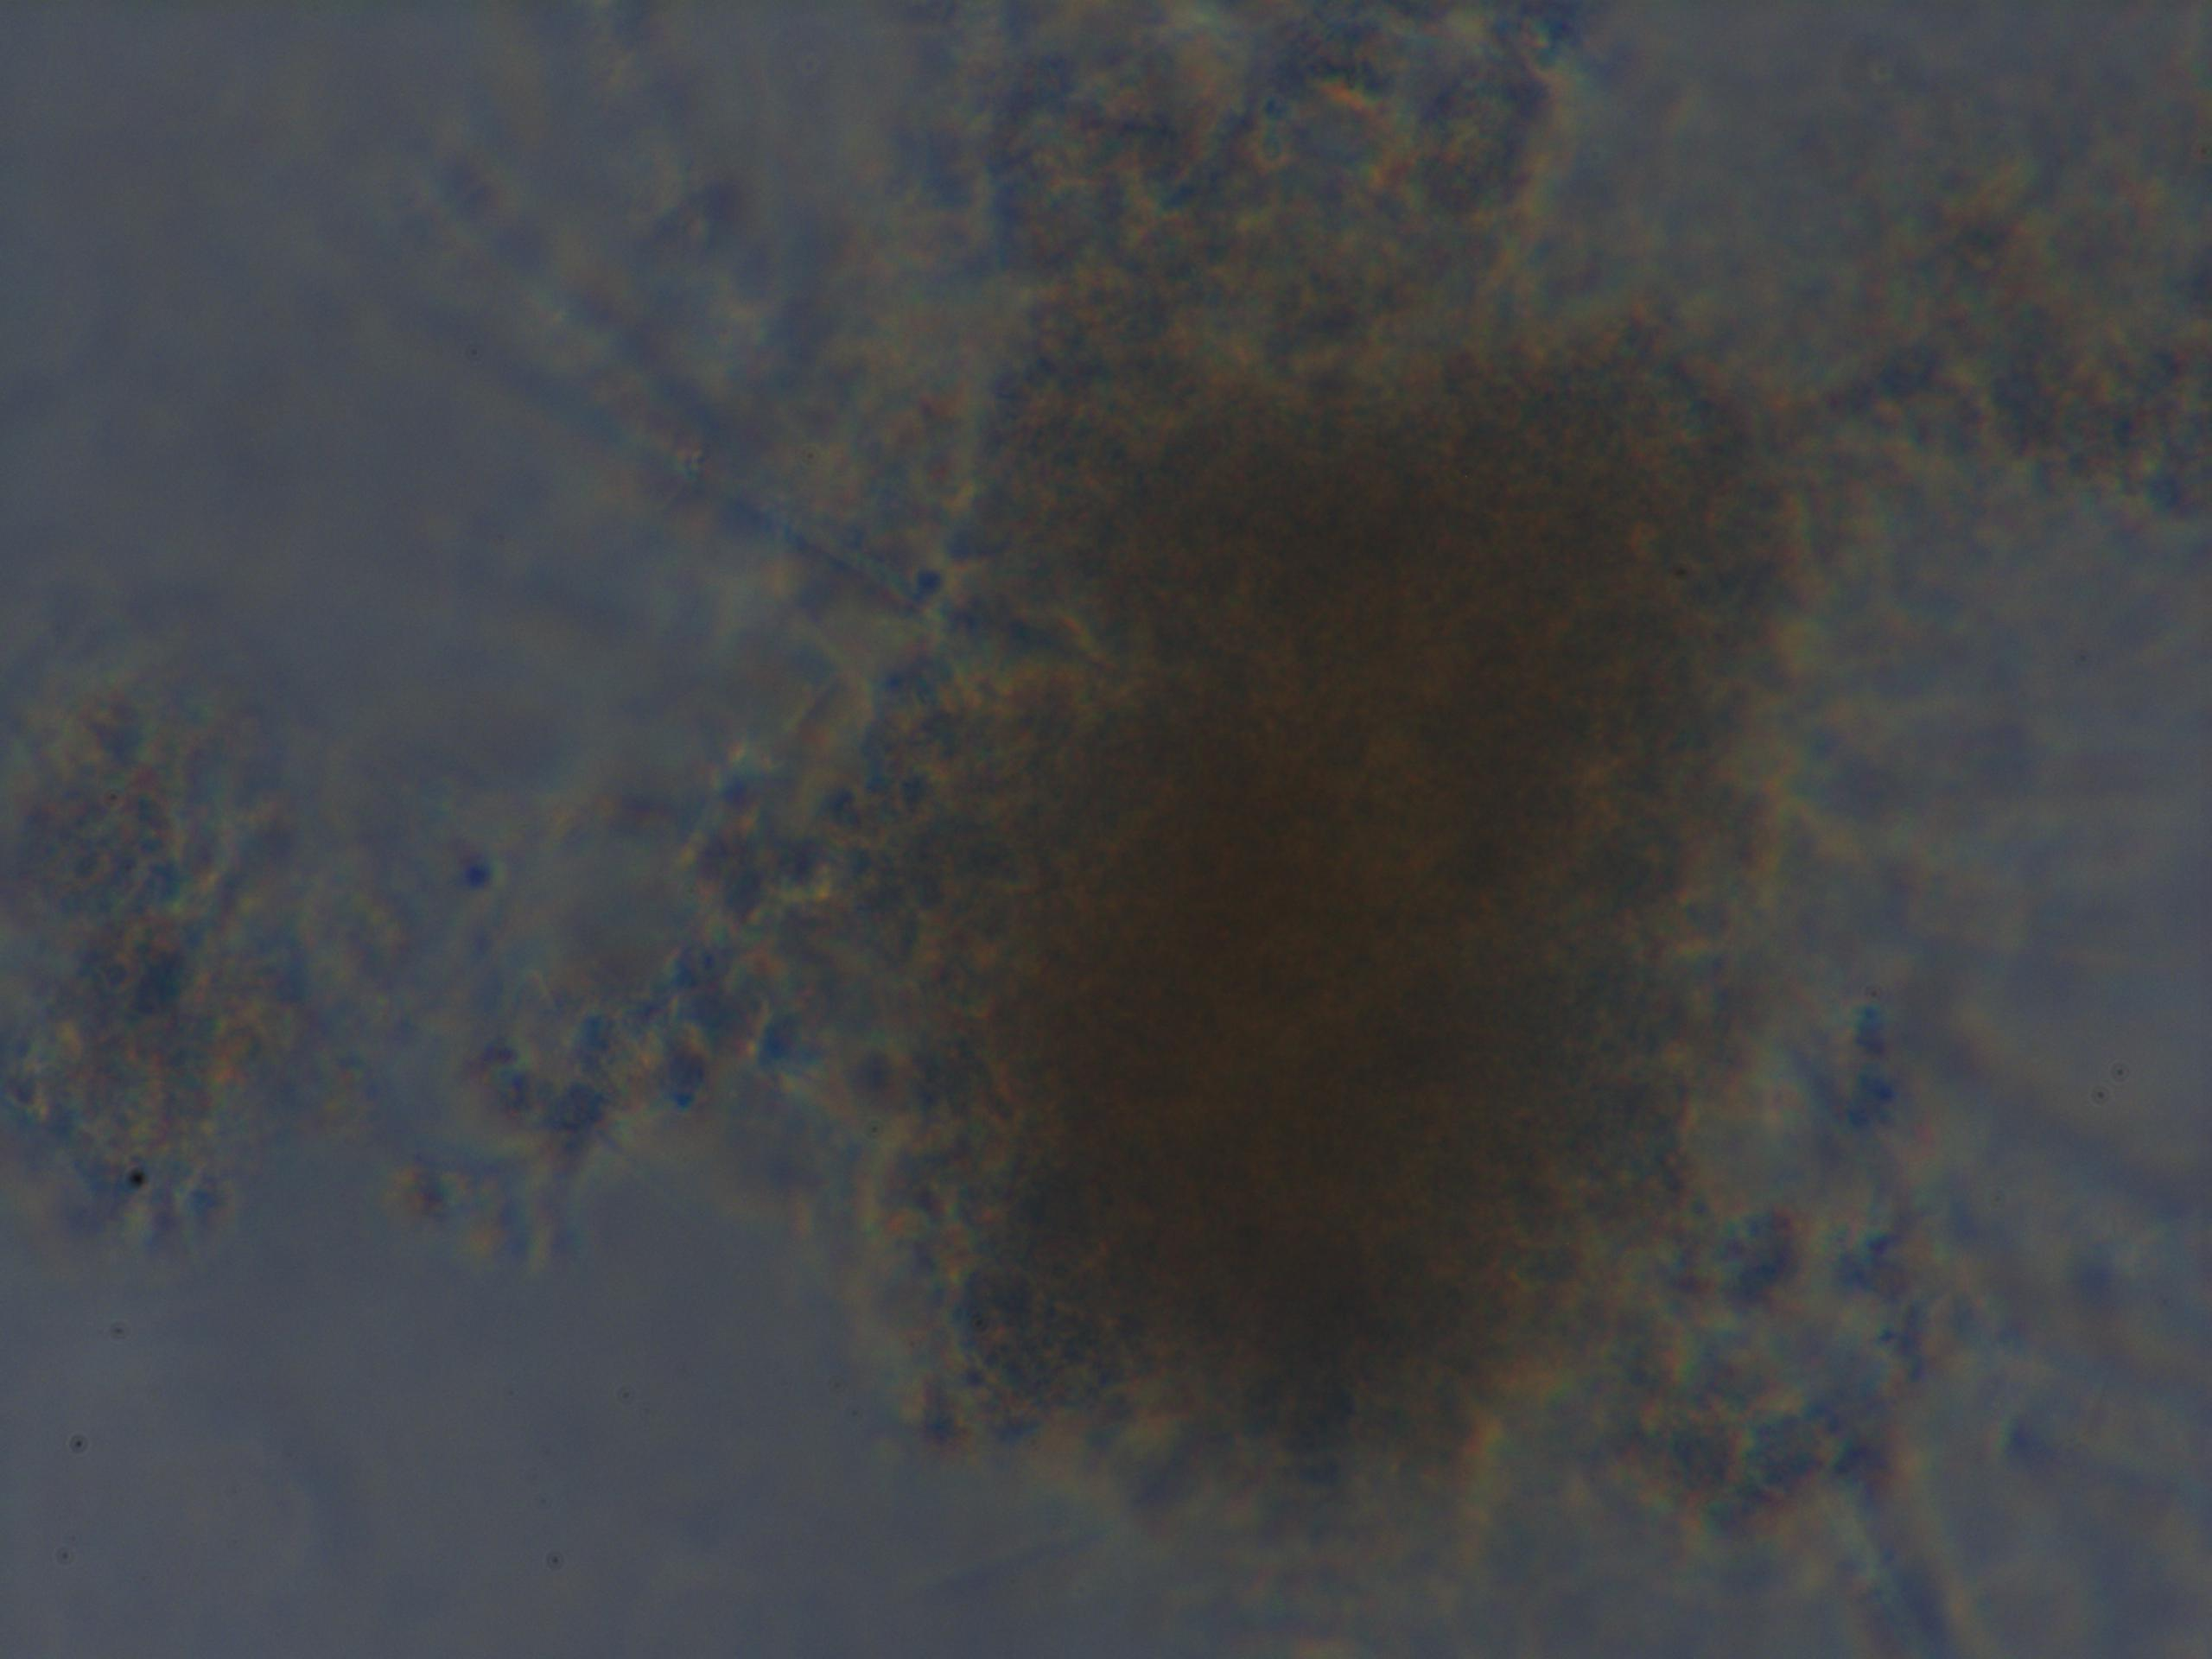spherical_floc: (871, 314, 1832, 1504)
